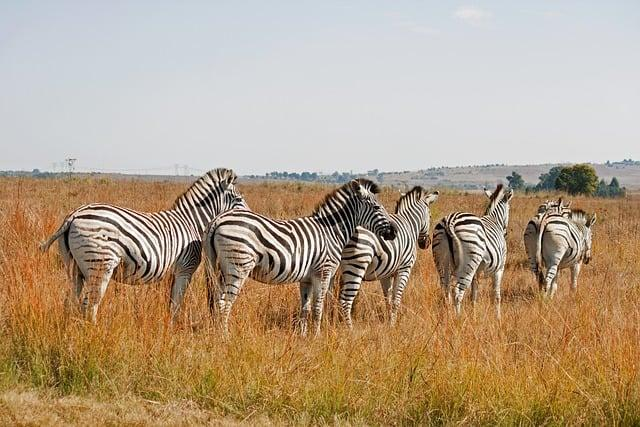Non_Gorille: (28, 26, 630, 382)
